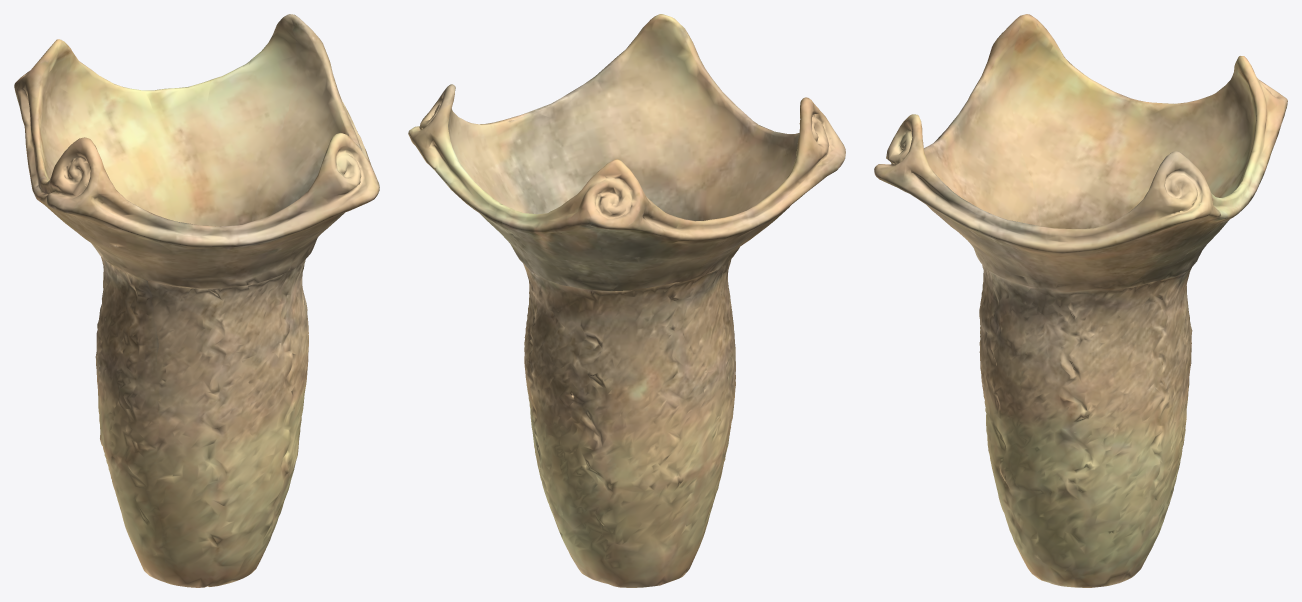
The model's file is cma-jomon-deep-vessel.glb.
3 renders of one model, left to right at view 1: azimuth 30°, elevation 25°; view 2: azimuth 150°, elevation 25°; view 3: azimuth 270°, elevation 25°, orthographic.
Visible parts, largest first — view 1: 1998.32_deep_vessel; view 2: 1998.32_deep_vessel; view 3: 1998.32_deep_vessel.
Boxes of the visible parts, x1,y1,x2,y2 form: 1998.32_deep_vessel: [14, 14, 379, 587]; 1998.32_deep_vessel: [408, 14, 845, 587]; 1998.32_deep_vessel: [874, 14, 1287, 587].
Size of the model in its own units: 0.3418 by 0.4468 by 0.3482.
1 material, 1 textured.
